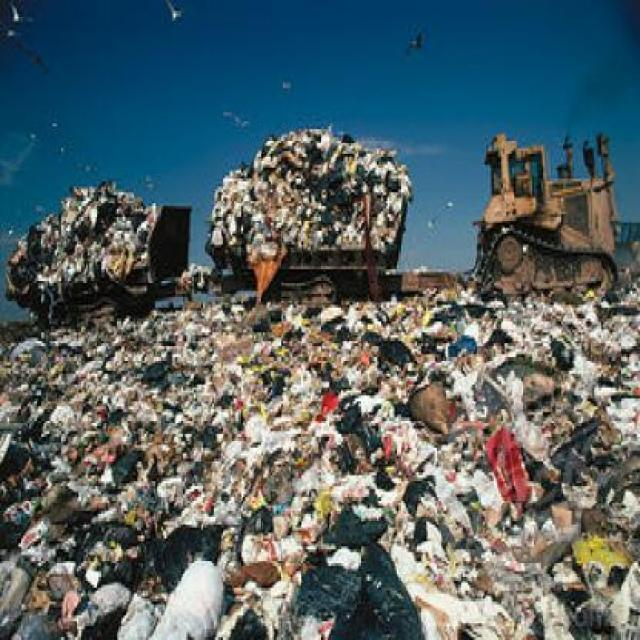garbage: (0, 308, 638, 637), (212, 140, 400, 252), (20, 182, 148, 270)
